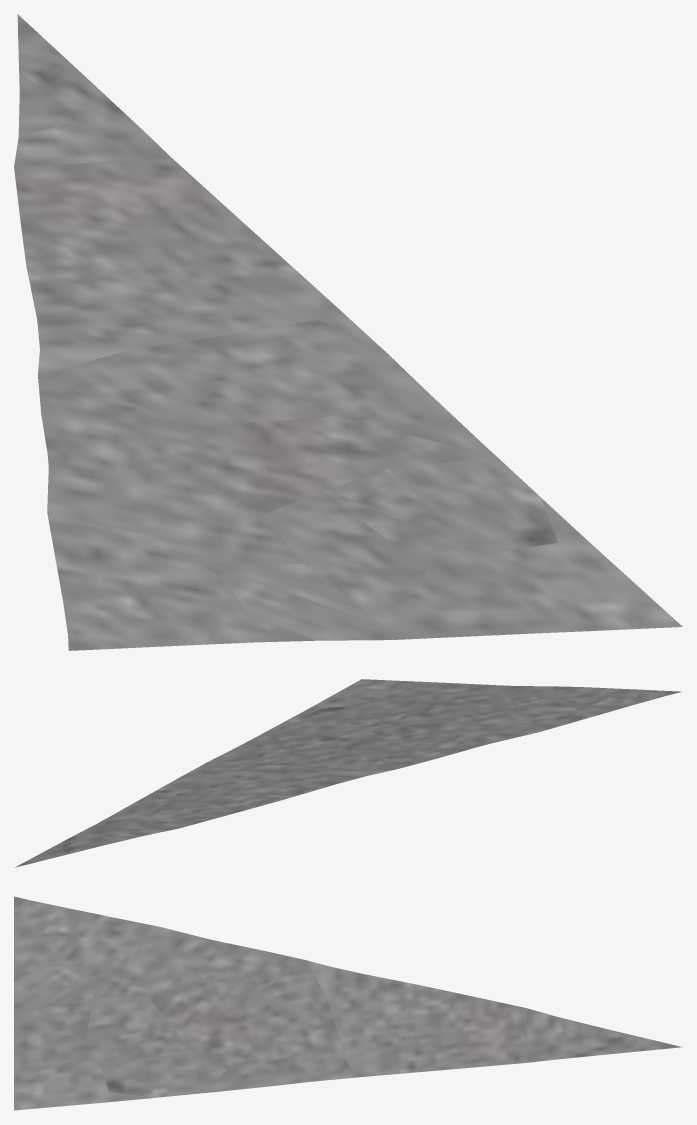
3 renders of one model, top to bottom at view 1: azimuth 30°, elevation 25°; view 2: azimuth 150°, elevation 25°; view 3: azimuth 270°, elevation 25°, orthographic. The views are drawn at different scales.
Size of the model in its own units: 0.6455 by 0.1264 by 1.21.
Materials: 1 (1 with a texture image).
